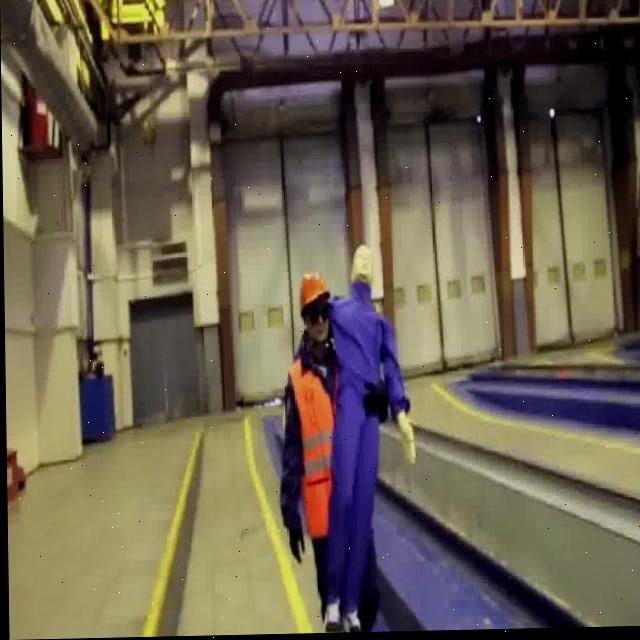Gloves: (362, 379, 388, 424), (396, 412, 417, 467), (287, 530, 304, 564)
Safety-Boot: (322, 603, 342, 635), (341, 610, 366, 634)
Safety-Vest: (286, 356, 337, 541)
